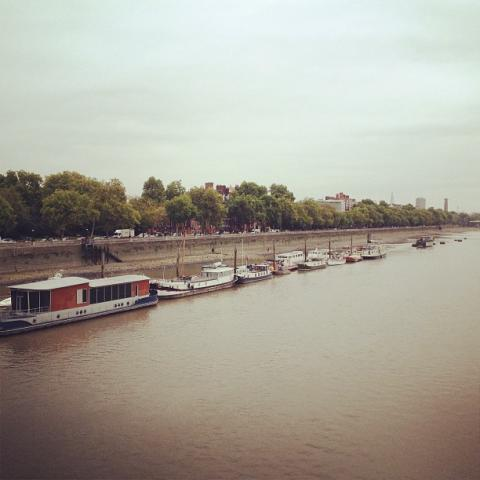car: (136, 234, 148, 238), (3, 238, 12, 243)
truck: (114, 228, 134, 239)
